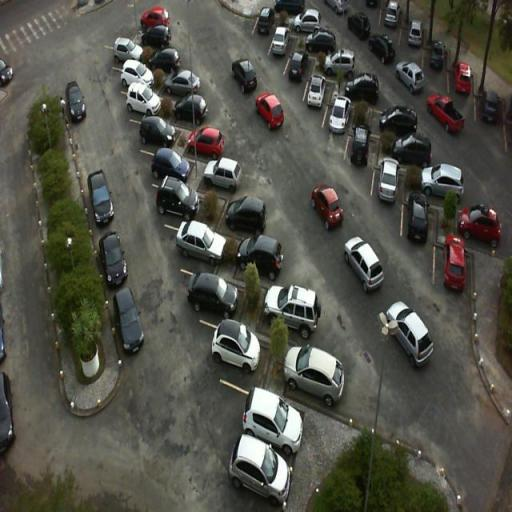Illegal-parking: (370, 302, 446, 371), (104, 289, 158, 368), (79, 164, 130, 228), (333, 240, 393, 292), (303, 181, 354, 233), (54, 76, 100, 132), (95, 232, 136, 294), (245, 92, 298, 135), (219, 60, 263, 88)
Slot-occupied: (233, 382, 314, 462), (278, 337, 354, 414), (201, 315, 266, 377), (178, 260, 249, 316), (264, 276, 331, 334), (168, 216, 234, 262), (154, 172, 208, 224), (212, 191, 276, 230), (241, 233, 297, 274), (146, 148, 198, 183), (118, 83, 168, 119), (133, 116, 185, 150), (184, 122, 228, 156), (100, 31, 148, 61), (202, 158, 246, 188), (112, 60, 158, 86), (160, 75, 208, 97), (134, 2, 174, 28), (170, 98, 211, 122), (150, 48, 187, 74), (139, 32, 179, 49)
